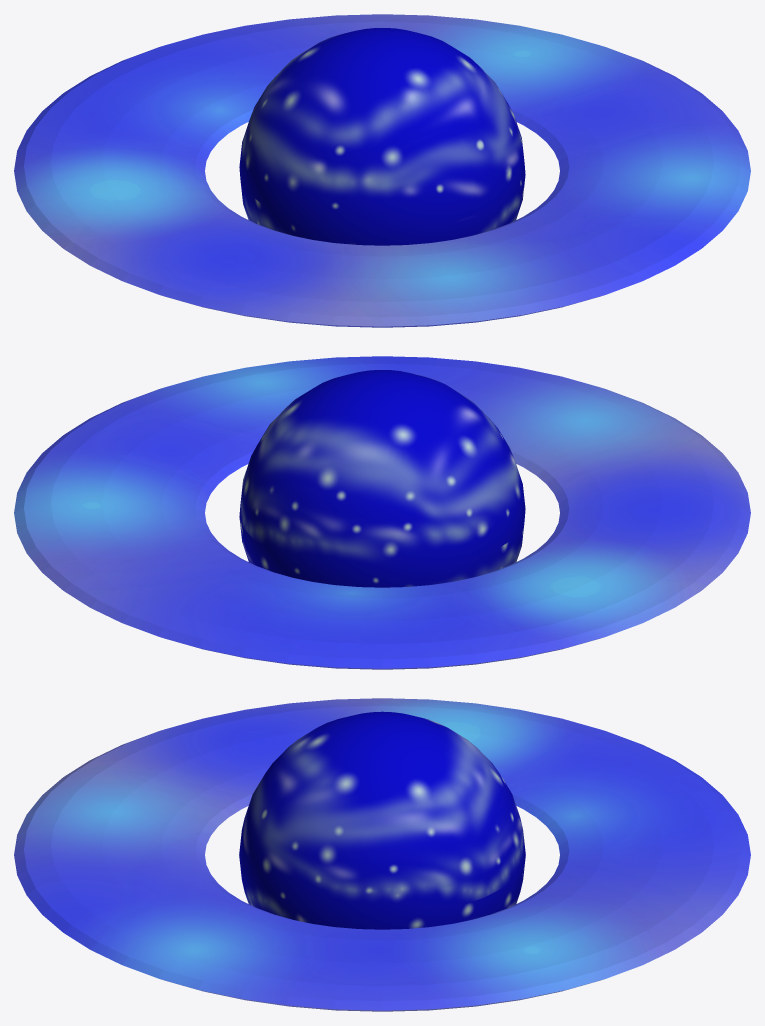
File: nave_espacial.fbx
3 views of the same model, one above another, from view 1: azimuth 30°, elevation 25°; view 2: azimuth 150°, elevation 25°; view 3: azimuth 270°, elevation 25° (orthographic).
Visible parts, largest first — view 1: aura_planeta, planeta; view 2: aura_planeta, planeta; view 3: aura_planeta, planeta.
Part boxes in pixels (x1,y1,x2,y2): aura_planeta: (14, 14, 750, 327); planeta: (239, 28, 525, 245); aura_planeta: (14, 356, 750, 669); planeta: (239, 370, 525, 587); aura_planeta: (14, 698, 750, 1011); planeta: (239, 711, 525, 929).
Size of the model in its own units: 1699 by 661 by 1699.
2 materials, 2 textured.
